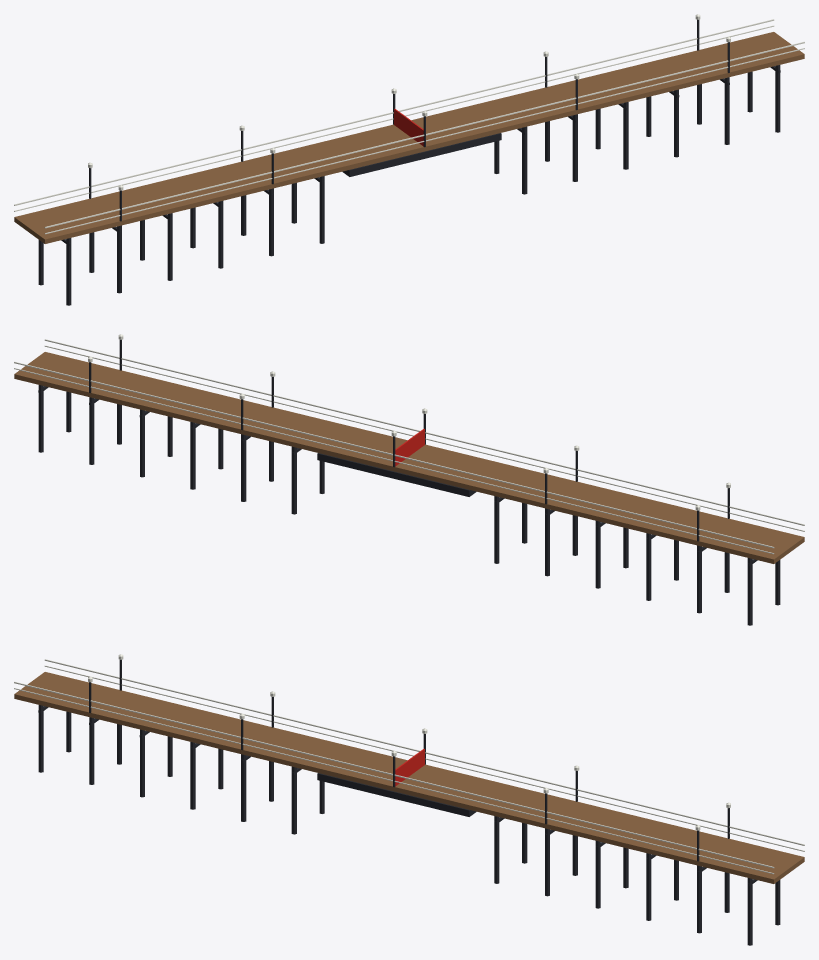
The model's file is muelle_cruce.obj.
3 renders of one model, top to bottom at view 1: azimuth 30°, elevation 25°; view 2: azimuth 150°, elevation 25°; view 3: azimuth 330°, elevation 25°, orthographic.
Visible parts, largest first — view 1: muelle_cruce; view 2: muelle_cruce; view 3: muelle_cruce.
Part boxes in pixels (x1,y1,x2,y2): muelle_cruce: (14,14,804,305); muelle_cruce: (14,334,804,625); muelle_cruce: (14,654,804,945).
Size of the model in its own units: 60 by 8.17 by 4.53.
